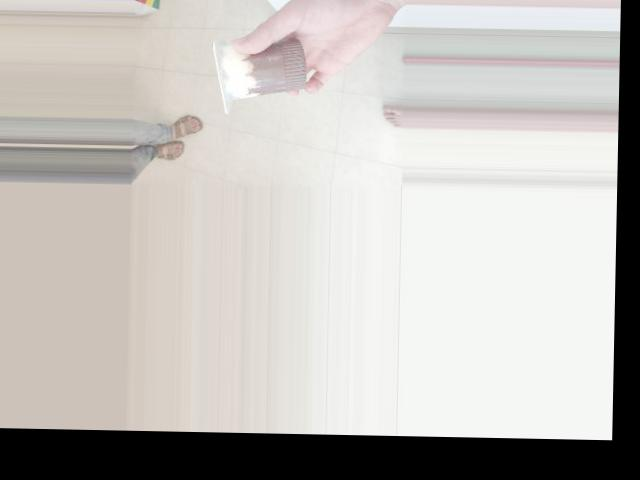milky: (214, 35, 333, 101)
